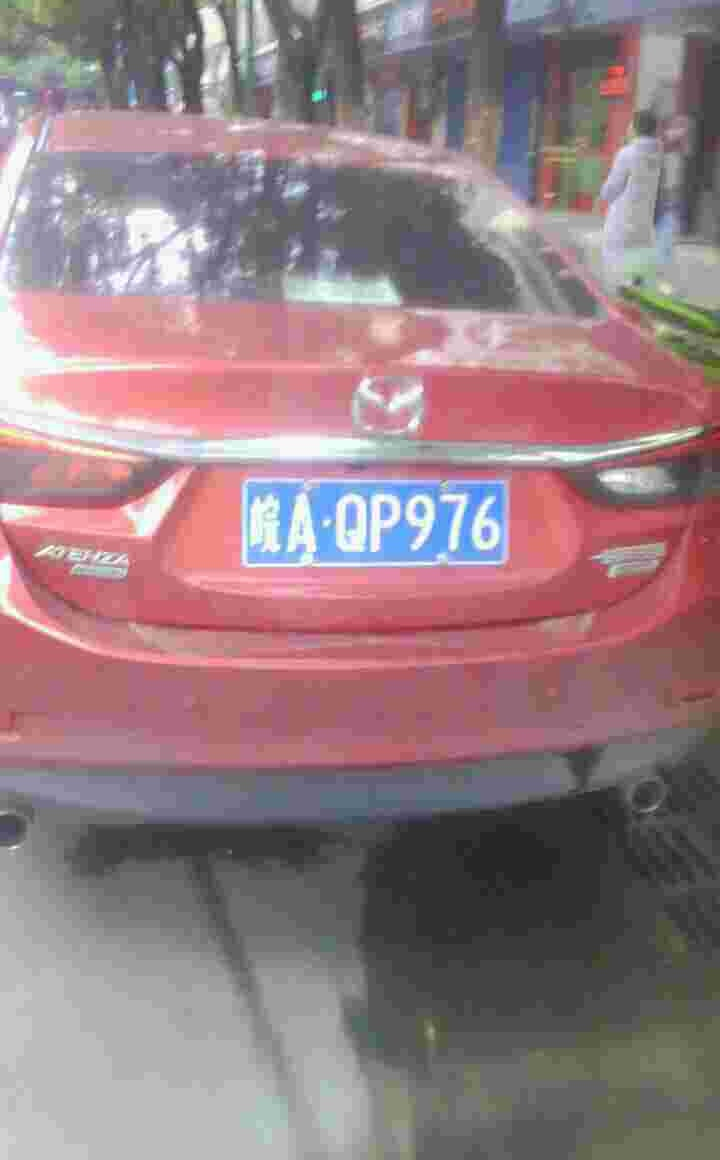plate: (246, 475, 518, 570)
